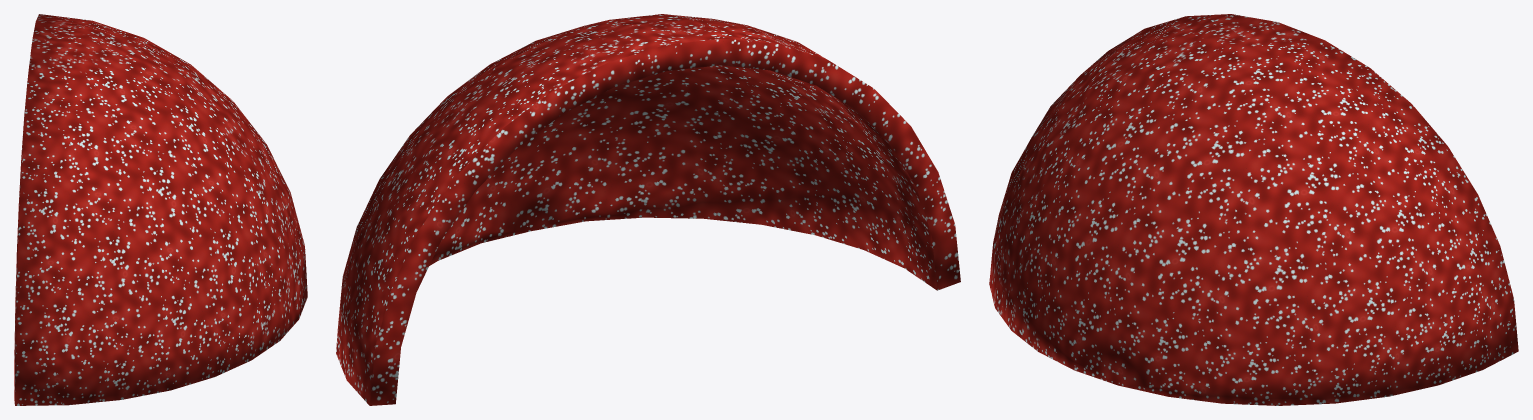
File: watersprings.glb
3 views of the same model, side by side, from view 1: azimuth 30°, elevation 25°; view 2: azimuth 150°, elevation 25°; view 3: azimuth 270°, elevation 25° (orthographic). The views are drawn at different scales.
Parts seen in each view (by area): view 1: WaterSprings; view 2: WaterSprings; view 3: WaterSprings.
Boxes of the visible parts, x1,y1,x2,y2 form: WaterSprings: (14, 14, 307, 405); WaterSprings: (336, 14, 960, 405); WaterSprings: (989, 14, 1518, 405).
Size of what is drawn, in the model's own units: 12.38 by 8.04 by 14.61.
Materials: 1 (1 with a texture image).
